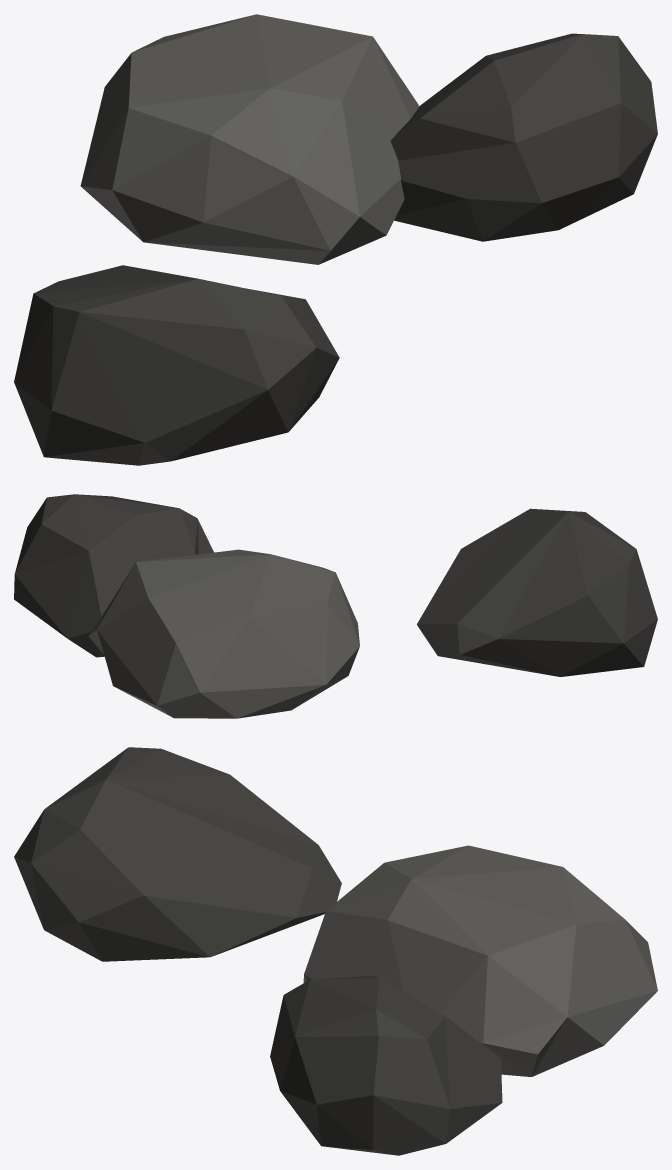
Rendered from SM_Env_Rock_Pebbles_03.fbx.
3 views of the same model, one above another, from view 1: azimuth 30°, elevation 25°; view 2: azimuth 150°, elevation 25°; view 3: azimuth 270°, elevation 25° (orthographic). The views are drawn at different scales.
Visible parts, largest first — view 1: SM_Env_Rock_Pebbles_03; view 2: SM_Env_Rock_Pebbles_03; view 3: SM_Env_Rock_Pebbles_03.
Part boxes in pixels (<box>): SM_Env_Rock_Pebbles_03: <box>14,14,657,465</box>; SM_Env_Rock_Pebbles_03: <box>14,494,657,718</box>; SM_Env_Rock_Pebbles_03: <box>14,747,657,1155</box>.
Bounding box in the file's own units: 55.98 × 13.43 × 47.25.
1 material, 1 textured.
